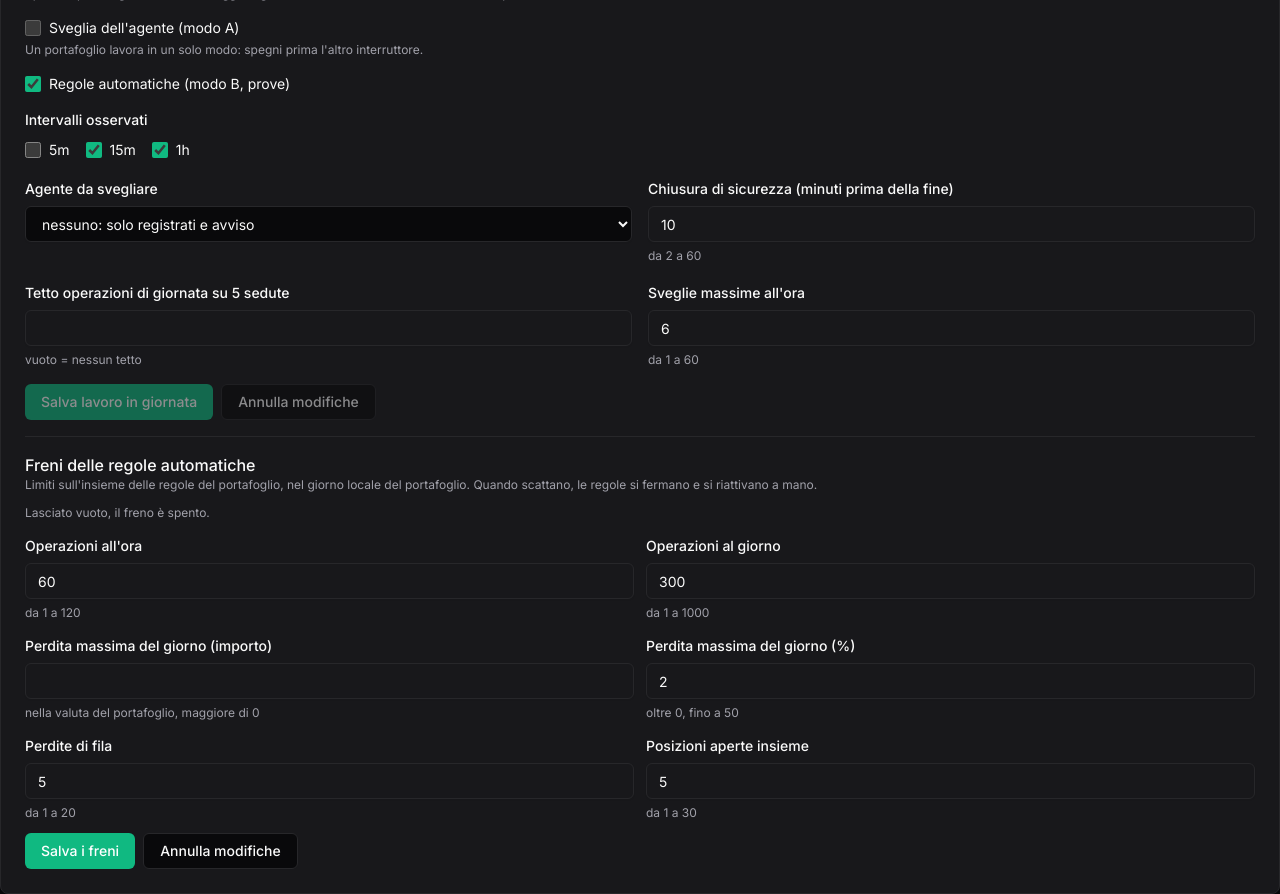
PortfolioSettings: lavoro in giornata › refuses an out-of-range brake in the page
(page scrolled)
Replace the text in the field labelled "Operazioni all'ora" with "500" at (330, 581), box [25,563,634,599]
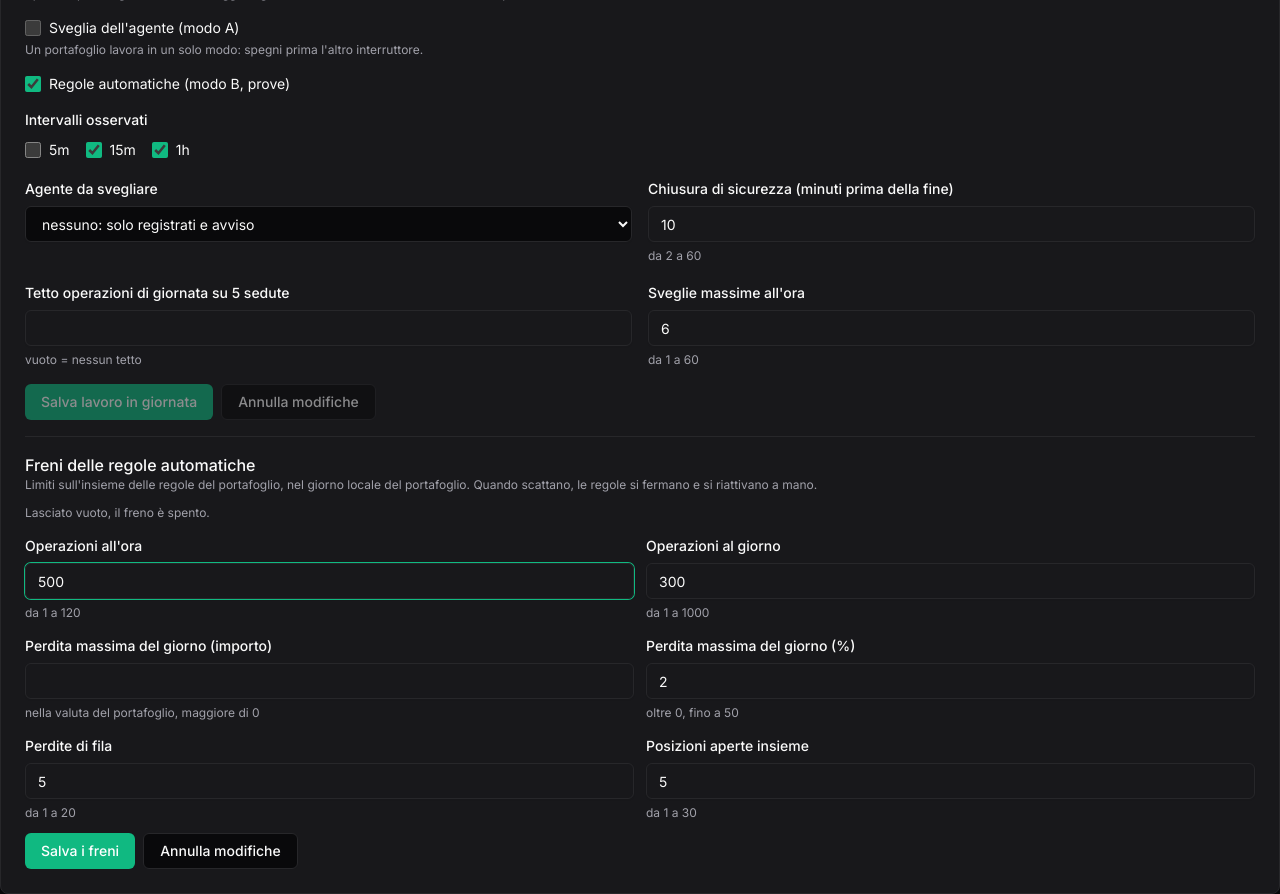
Click the button "Salva i freni" at (80, 851), box [25,833,135,869]
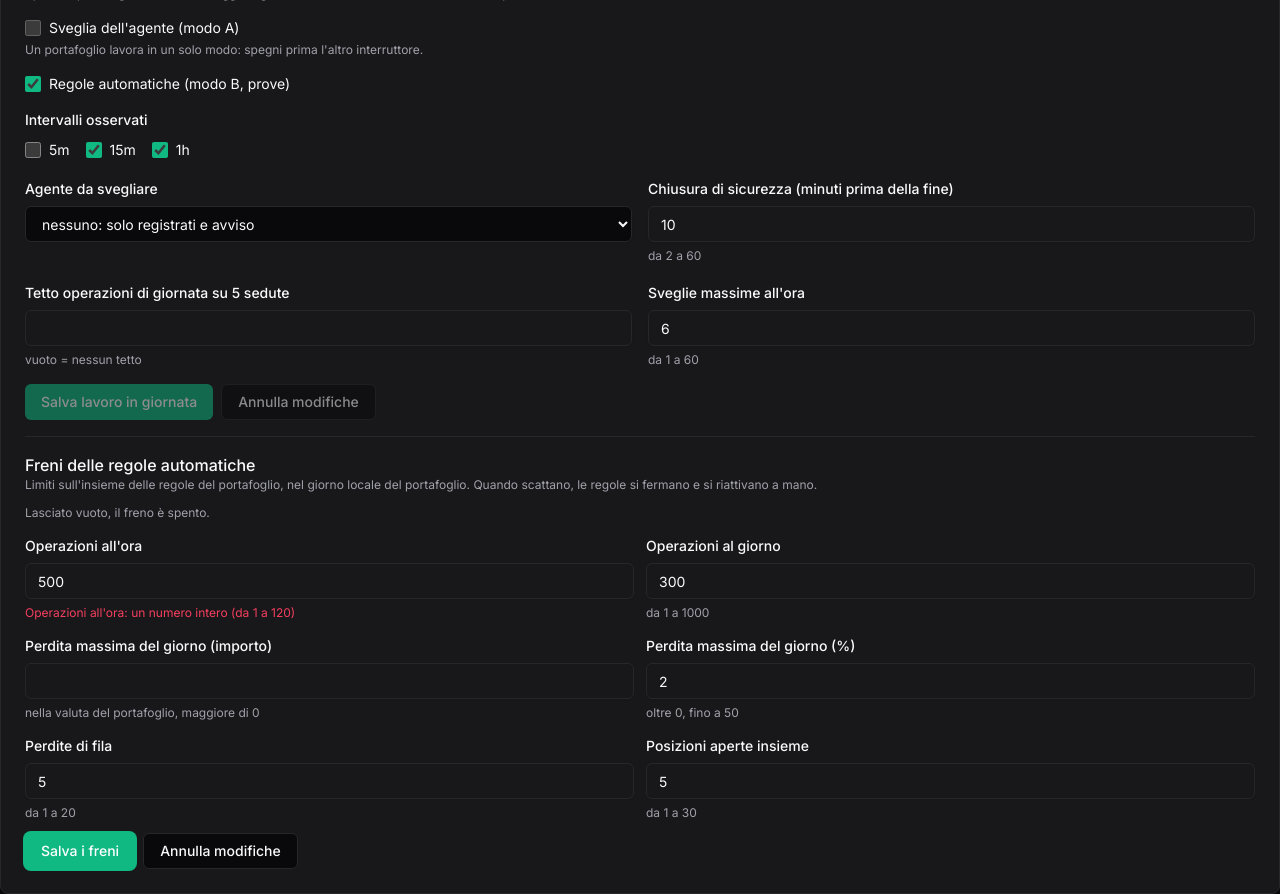
expect the text "Operazioni all'ora: un numero intero (da 1 a 120)" is shown: met, box [25,605,295,620]
